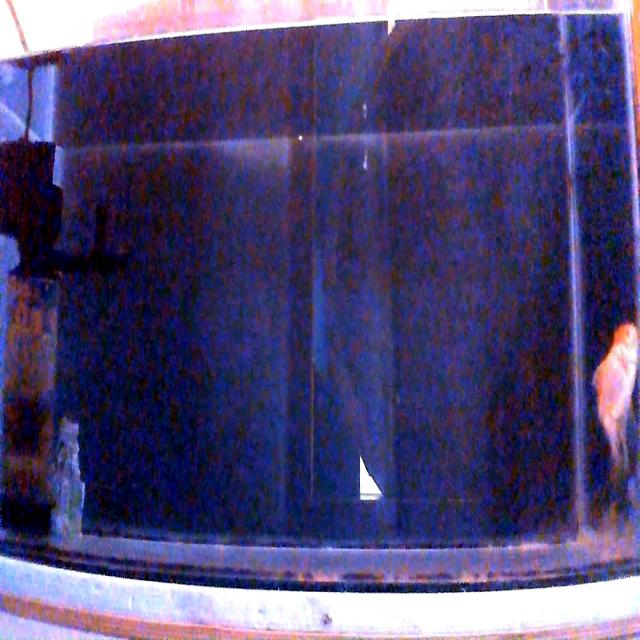fish: (592, 323, 638, 463)
